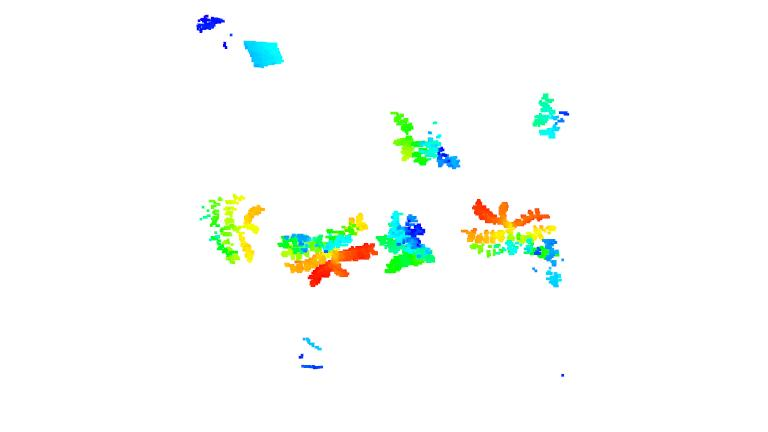chickpea: (279, 212, 376, 286), (464, 199, 557, 261), (388, 104, 463, 170), (201, 192, 265, 265), (374, 209, 439, 275), (528, 91, 572, 139)
